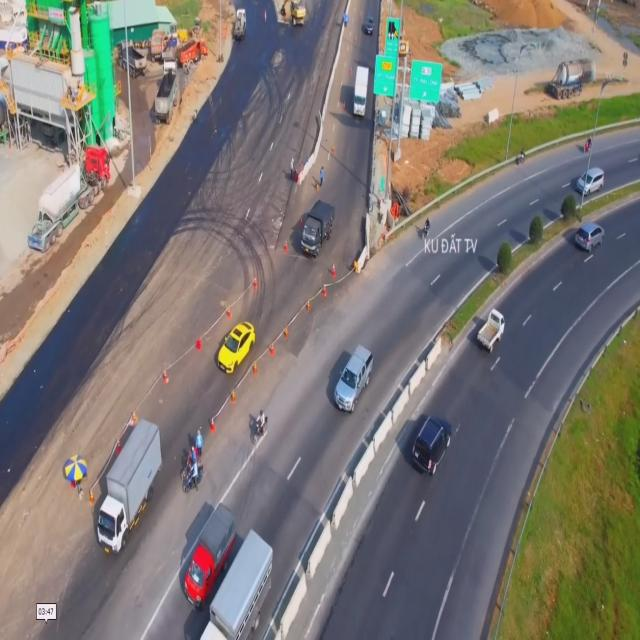car: (332, 345, 373, 414), (412, 412, 453, 474), (216, 322, 256, 374), (575, 220, 605, 252), (578, 166, 605, 197)
motorbike: (185, 455, 206, 492), (250, 408, 267, 446)
truck: (195, 528, 272, 640), (97, 421, 161, 555), (183, 502, 237, 602), (303, 198, 336, 264), (478, 307, 506, 353), (353, 61, 369, 122)
